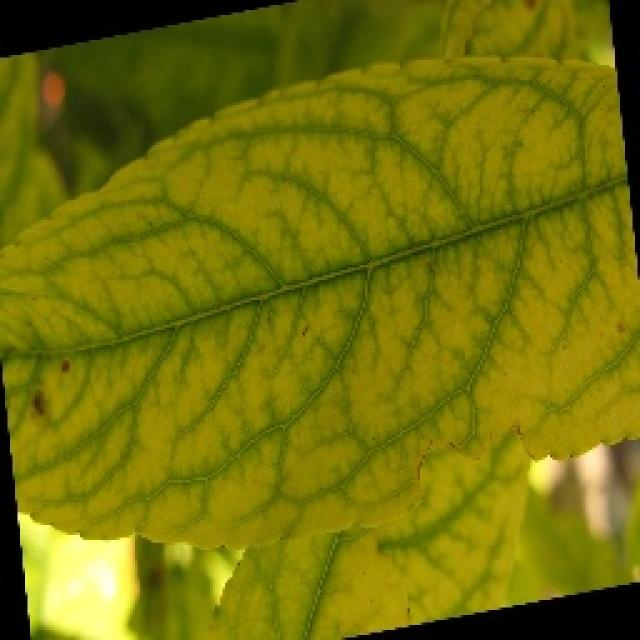Chlorosis: (30, 84, 634, 554)
